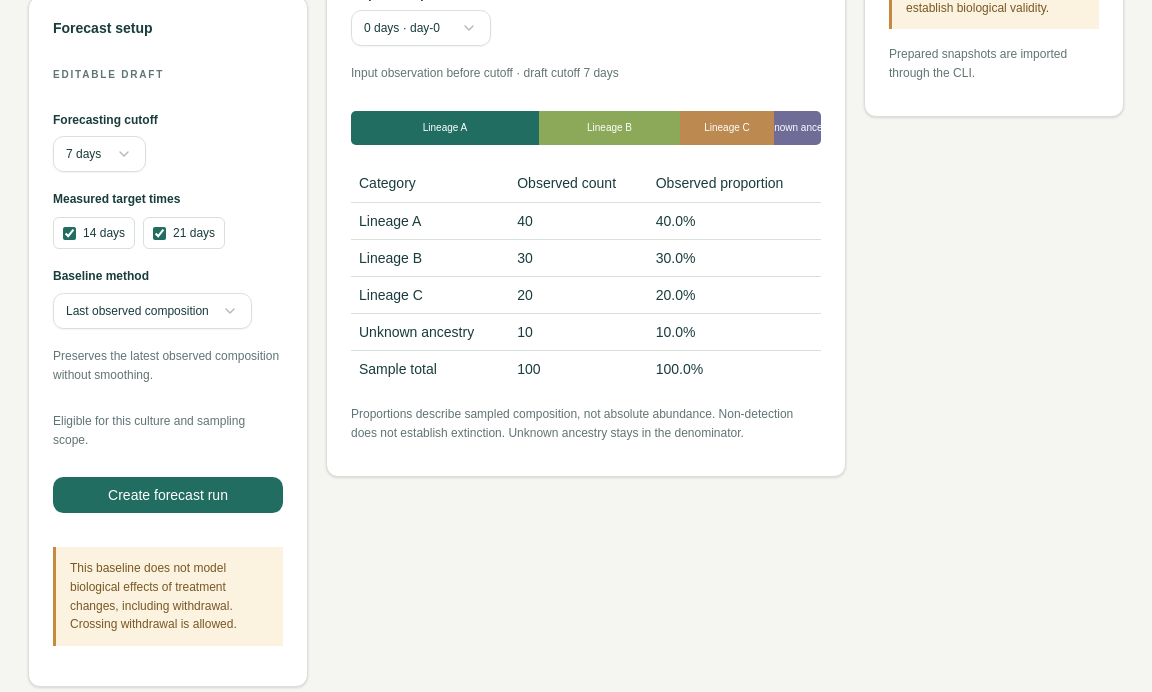
creates a persisted queued run from the draft and exposes API rejection errors
This screenshot has width=1152, height=692.
(page scrolled)
What coordinates should you click on to do the following:
click the button "Create forecast run"
I would click on:
 (168, 495)
Its box is x1=53 y1=477 x2=283 y2=513.
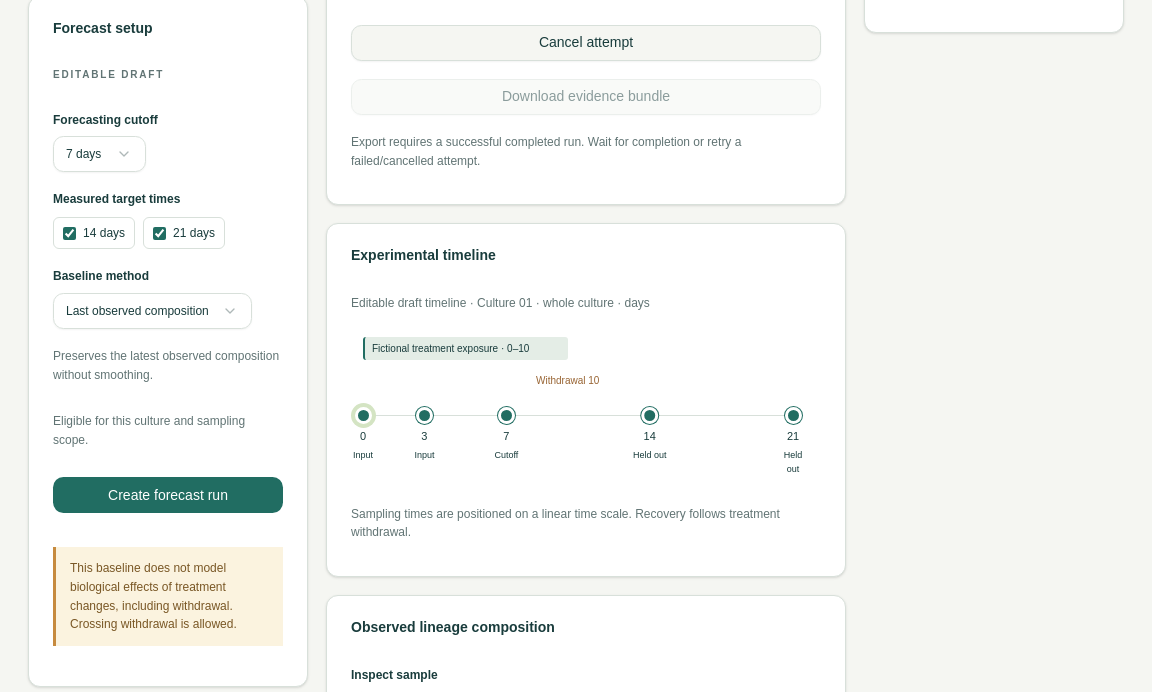
What coordinates should you click on to do the following:
click the button "Create forecast run"
I would click on:
 (168, 495)
Its box is x1=53 y1=477 x2=283 y2=513.
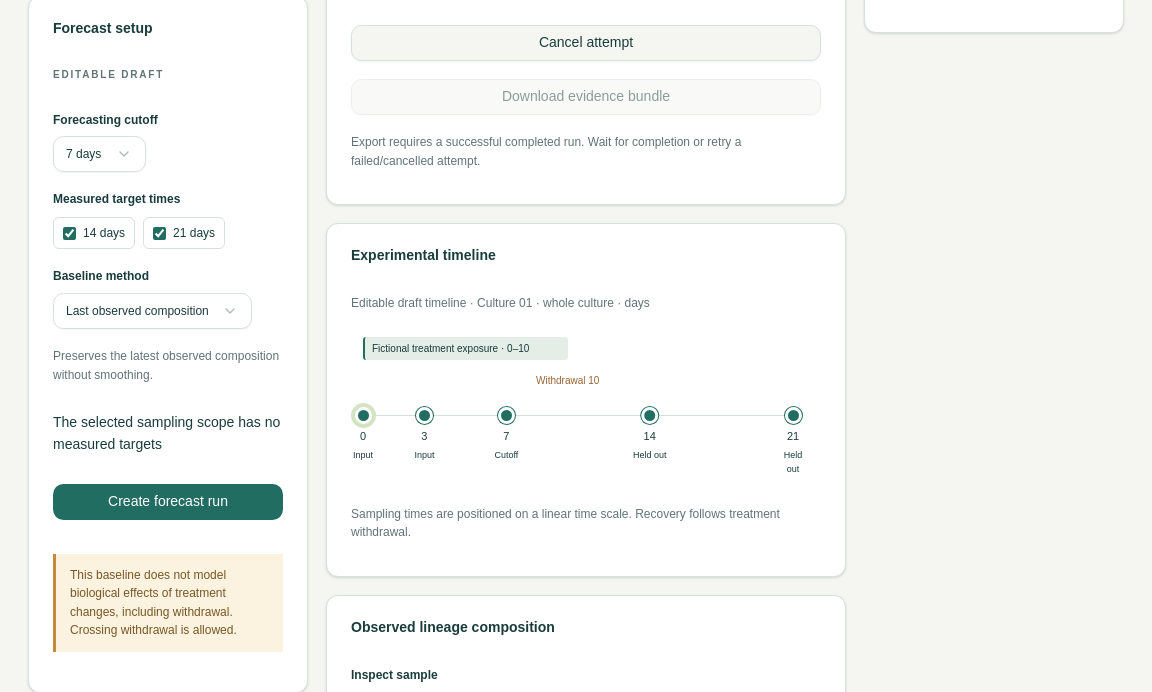
Check: the text "The selected sampling scope has no measured targets" is shown, box x1=53 y1=412 x2=283 y2=456
